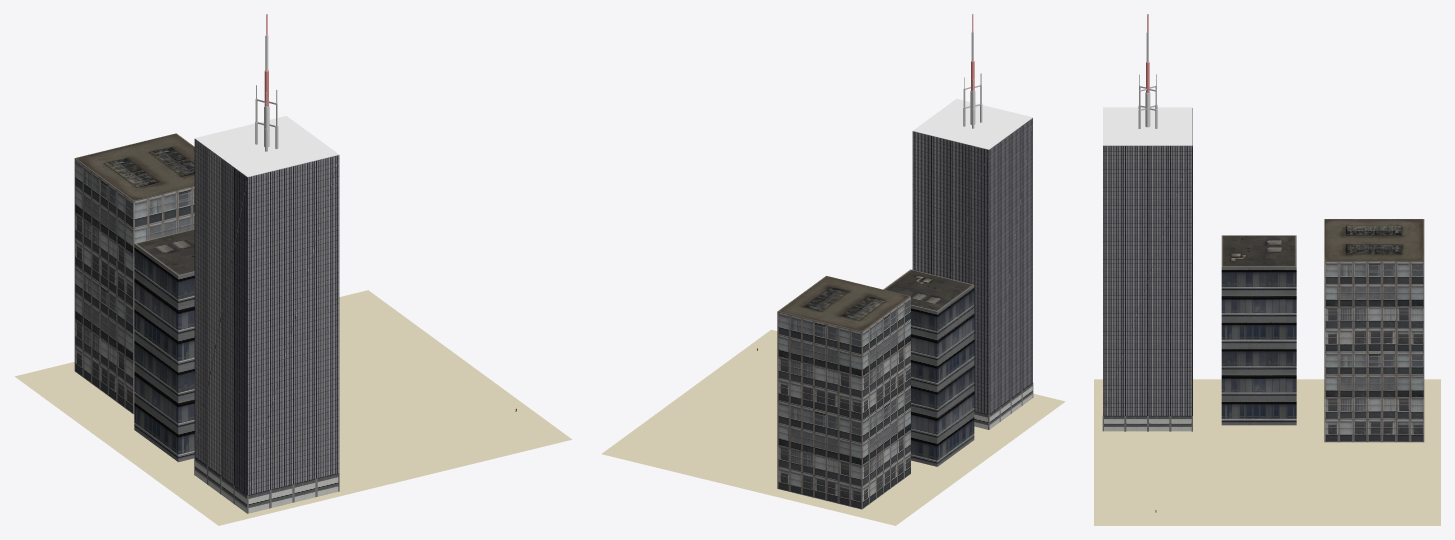
3 views of the same model, side by side, from view 1: azimuth 30°, elevation 25°; view 2: azimuth 150°, elevation 25°; view 3: azimuth 270°, elevation 25° (orthographic). The views are drawn at different scales.
Parts seen in each view (by area): view 1: Skyscraper Backdrop Dummy 100 Anten, FG-2015-Offsim City Building low Poly (×2), Terrain 14,12, Terrain 15,12, Terrain 15,13, Terrain 15,14, Terrain 14,13, Terrain 15,15, Skyscraper Backdrop Dummy 100, Terrain 12,15, Terrain 12,14, Terrain 12,12 (+3 smaller); view 2: FG-2015-Offsim City Building low Poly (×2), Skyscraper Backdrop Dummy 100 Anten, Terrain 15,14, Terrain 15,15, Terrain 14,15, Terrain 15,13, Terrain 12,15, Terrain 14,14, Terrain 12,14, Terrain 12,13, Terrain 12,12, Terrain 15,12 (+2 smaller); view 3: FG-2015-Offsim City Building low Poly (×2), Skyscraper Backdrop Dummy 100 Anten, Terrain 14,13, Terrain 14,14, Terrain 15,13, Terrain 15,14, Terrain 14,12, Terrain 15,12, Terrain 14,15, Terrain 15,15, Terrain 13,13, Terrain 13,14 (+6 smaller).
Boxes of the visible parts, box(x1,y1,x2,y2) form: Skyscraper Backdrop Dummy 100 Anten: box(194, 14, 339, 513); FG-2015-Offsim City Building low Poly (×2): box(74, 133, 194, 462); Terrain 14,12: box(345, 423, 484, 482); Terrain 15,12: box(434, 402, 571, 460); Terrain 15,13: box(383, 364, 520, 423); Terrain 15,14: box(339, 327, 469, 385); Terrain 14,13: box(339, 386, 433, 444); Terrain 15,15: box(339, 290, 417, 346); Skyscraper Backdrop Dummy 100: box(195, 457, 338, 513); Terrain 12,15: box(14, 362, 114, 413); Terrain 12,14: box(65, 401, 150, 450); Terrain 12,12: box(168, 480, 306, 525); FG-2015-Offsim City Building low Poly (×2): box(777, 269, 974, 509); Skyscraper Backdrop Dummy 100 Anten: box(912, 14, 1033, 429); Terrain 15,14: box(643, 392, 757, 440); Terrain 15,15: box(601, 423, 715, 471); Terrain 14,15: box(674, 441, 777, 489); Terrain 15,13: box(686, 361, 777, 409); Terrain 12,15: box(822, 485, 937, 525); Terrain 14,14: box(716, 410, 777, 455); Terrain 12,14: box(896, 457, 979, 495); Terrain 12,13: box(951, 426, 1022, 463); Terrain 12,12: box(995, 393, 1065, 432); Terrain 15,12: box(729, 329, 777, 372); FG-2015-Offsim City Building low Poly (×2): box(1221, 219, 1424, 442); Skyscraper Backdrop Dummy 100 Anten: box(1102, 14, 1192, 431); Terrain 14,13: box(1181, 453, 1268, 489); Terrain 14,14: box(1268, 453, 1355, 489); Terrain 15,13: box(1181, 489, 1268, 525); Terrain 15,14: box(1268, 489, 1355, 525); Terrain 14,12: box(1094, 453, 1180, 489); Terrain 15,12: box(1094, 489, 1180, 525); Terrain 14,15: box(1355, 453, 1440, 489); Terrain 15,15: box(1355, 489, 1440, 525); Terrain 13,13: box(1181, 416, 1268, 452); Terrain 13,14: box(1268, 416, 1355, 452).
Size of the model in its own units: 255 by 323 by 255.
Materials: 21 (12 with a texture image).
